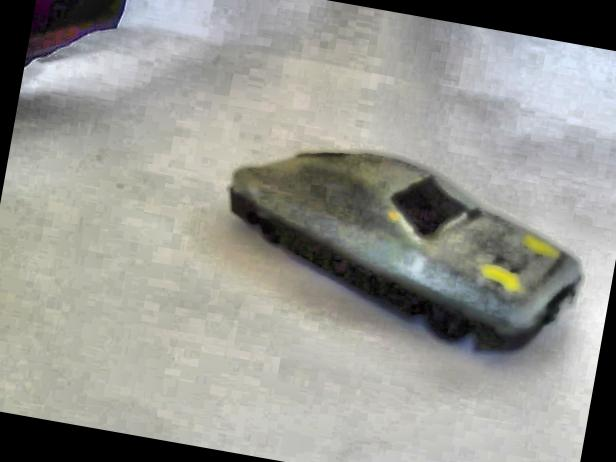normal_car: (200, 119, 606, 373)
